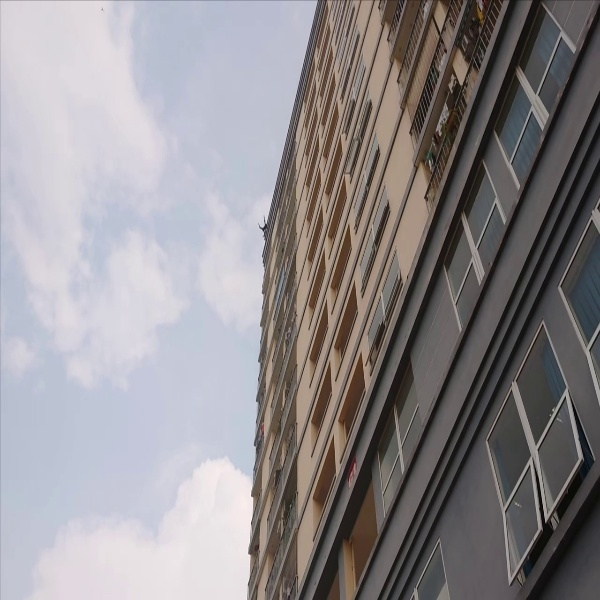drone: (255, 213, 274, 238)
